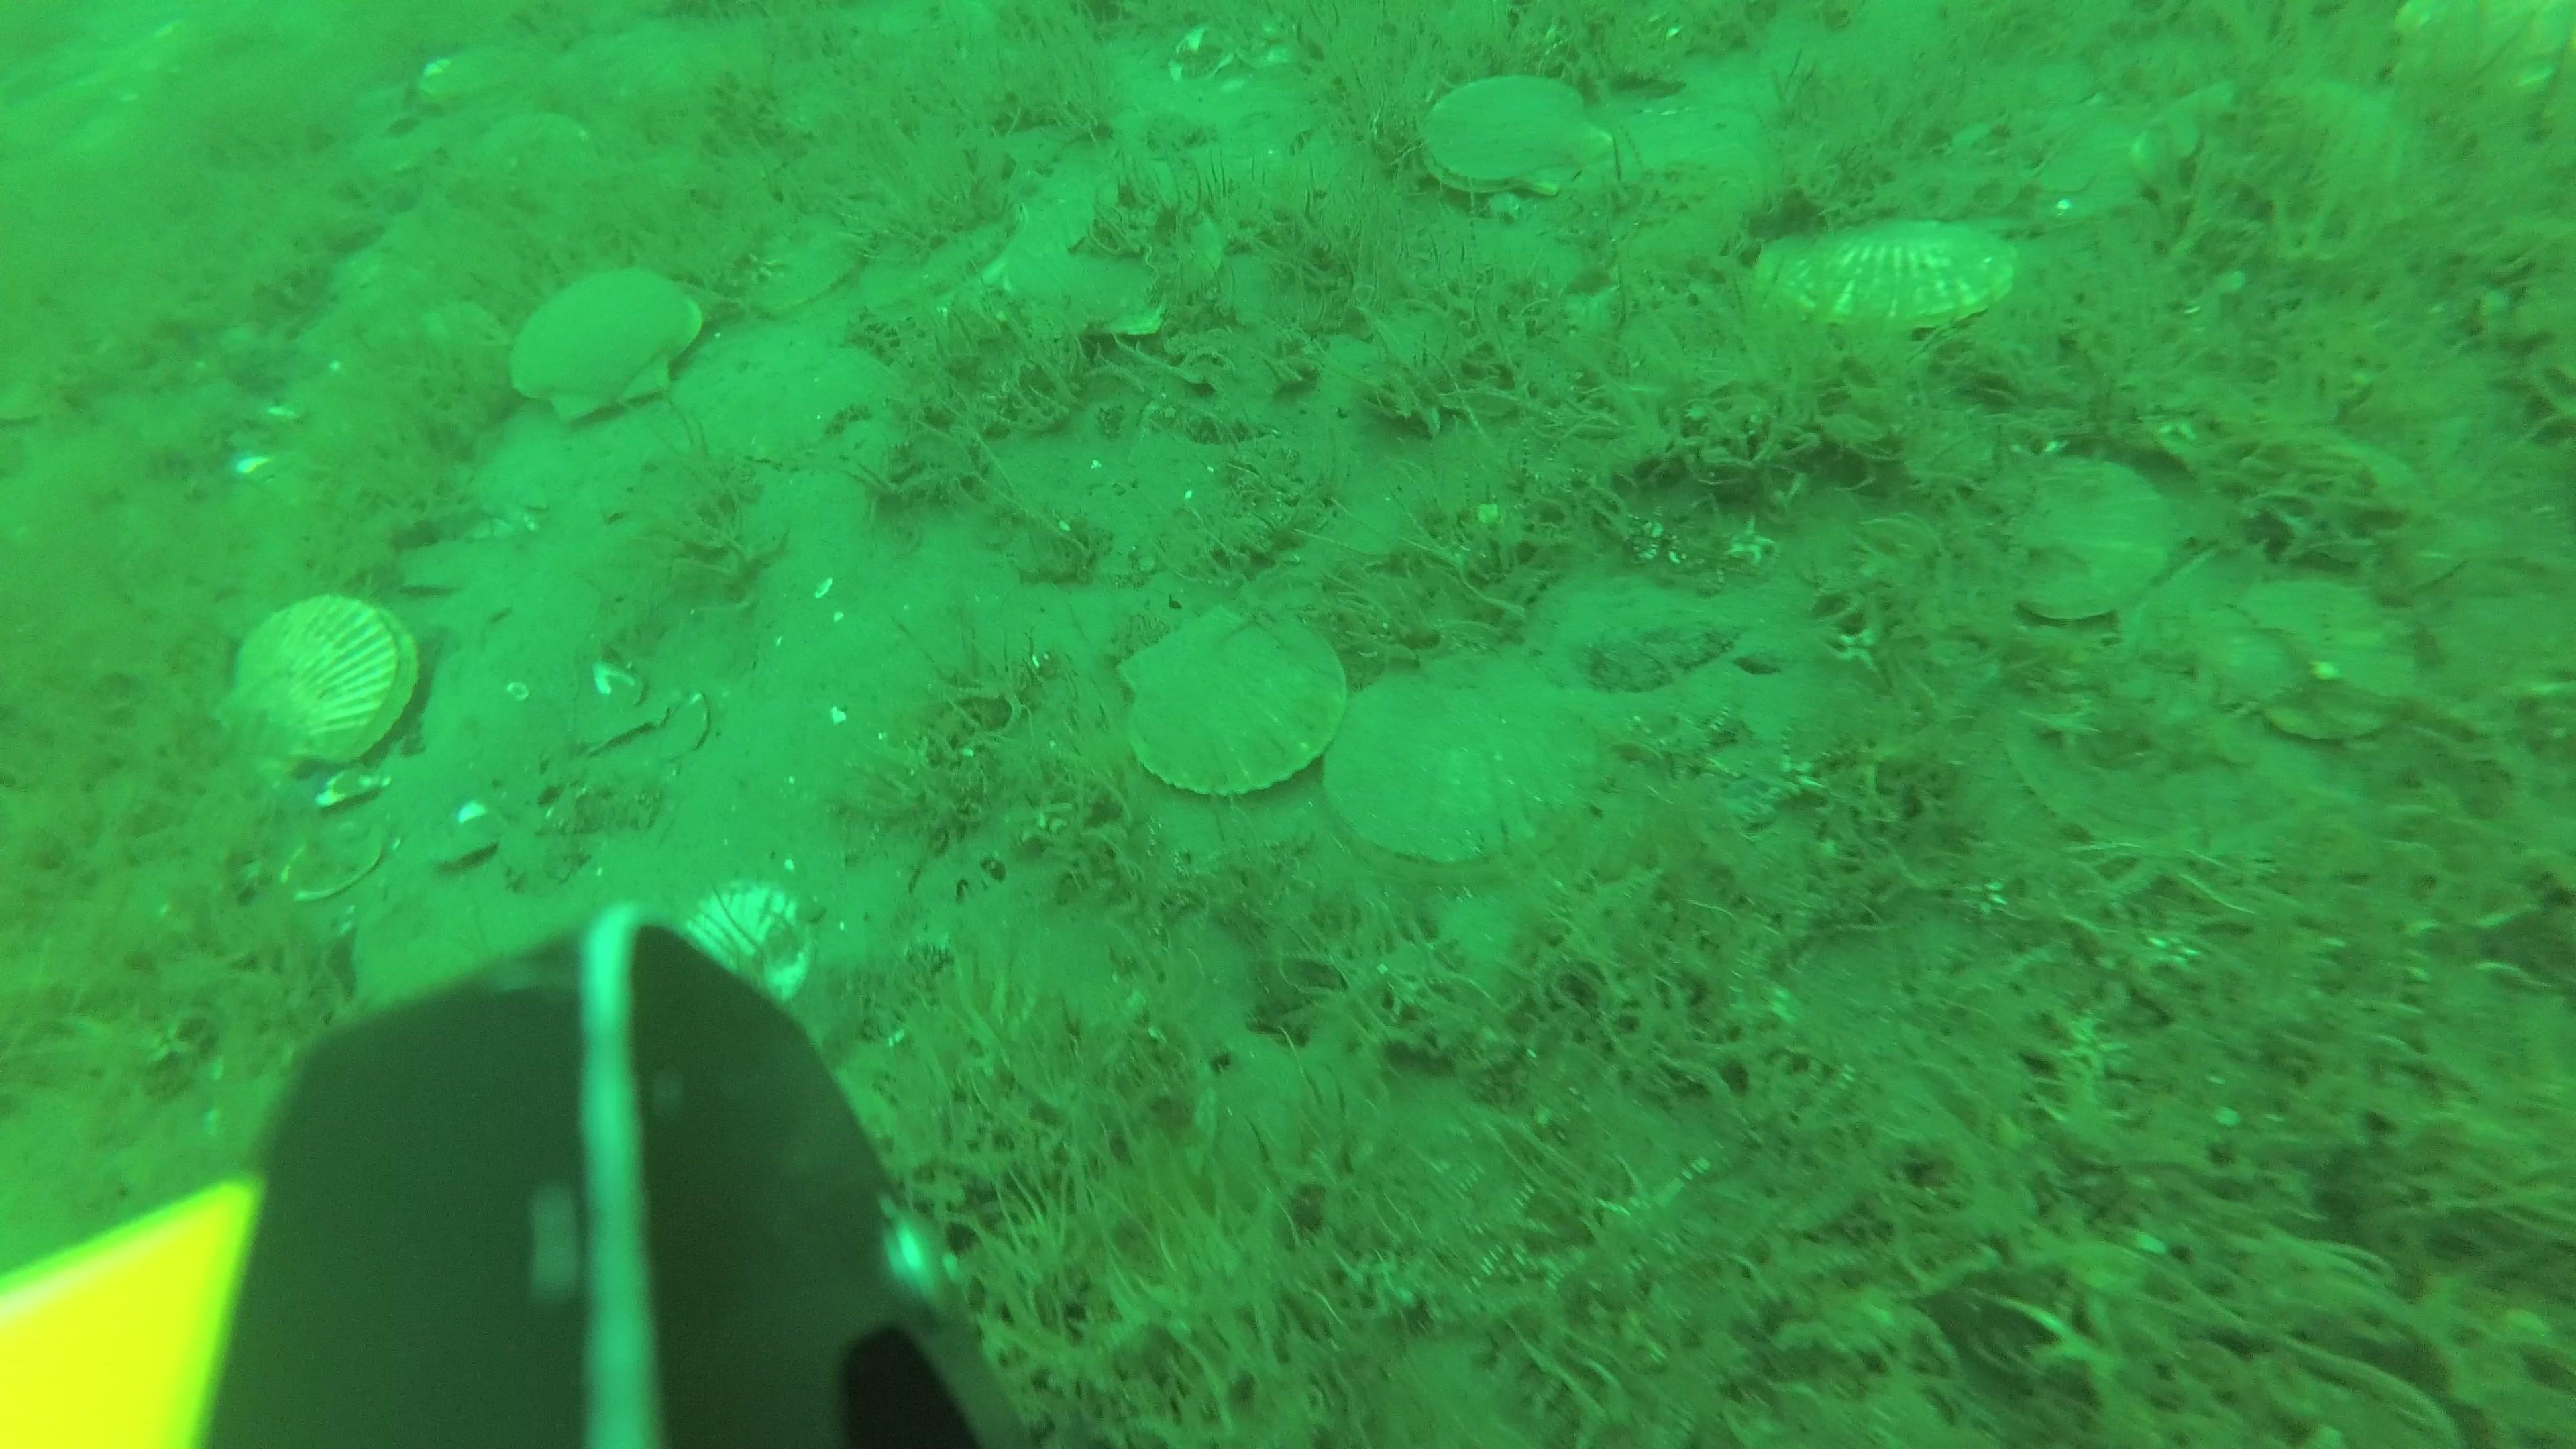scallop: (1329, 662, 1610, 858), (1111, 603, 1357, 796), (2121, 83, 2411, 216), (994, 177, 1224, 340), (230, 594, 426, 773), (2224, 575, 2419, 748), (1757, 209, 2019, 334), (1744, 212, 2017, 327), (2006, 455, 2183, 619), (508, 271, 697, 423), (504, 274, 706, 416), (1407, 71, 1610, 200), (674, 881, 812, 1003), (747, 219, 870, 315), (278, 819, 387, 899)
